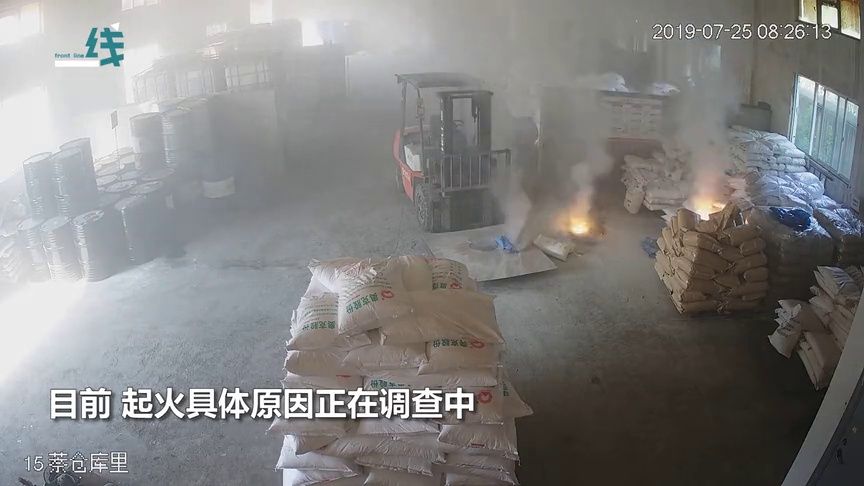fire: (570, 201, 595, 233)
smoke: (683, 74, 734, 199), (568, 112, 606, 209), (495, 170, 534, 243)
